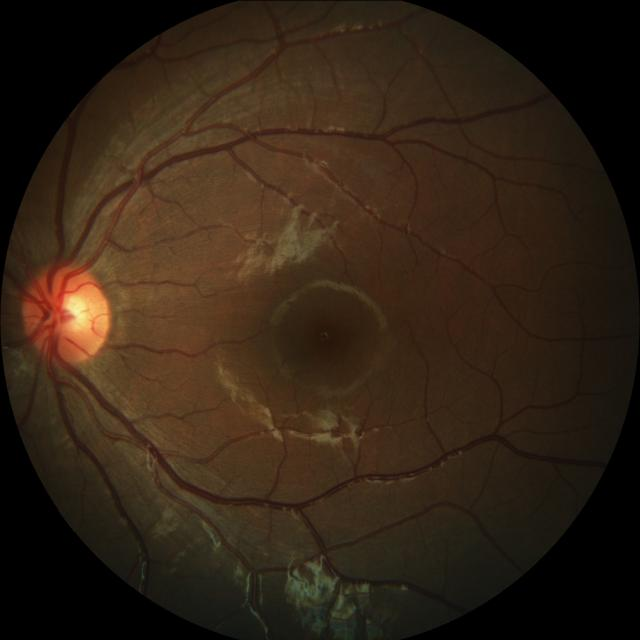OC: (48, 292, 92, 335)
OD: (24, 264, 112, 364)
